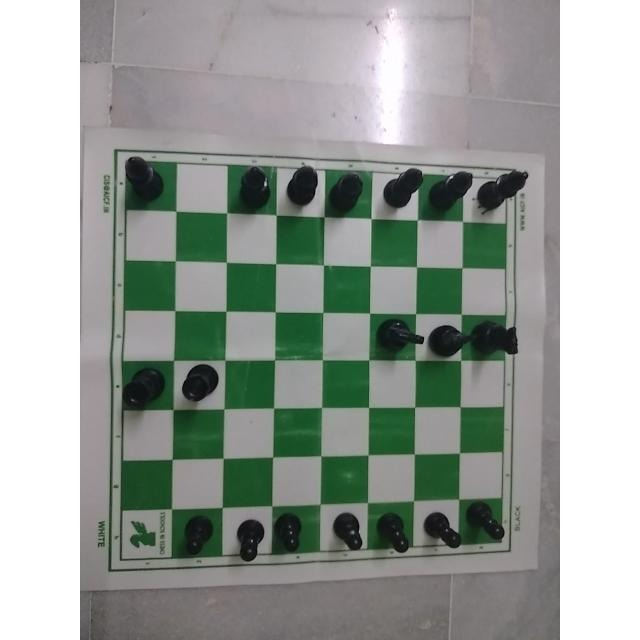black-bishop: (482, 162, 532, 219), (114, 147, 169, 198), (332, 158, 372, 222), (284, 152, 325, 212), (380, 157, 427, 209), (232, 162, 275, 208), (433, 168, 471, 212)
black-knight: (374, 310, 422, 357), (427, 319, 475, 363), (477, 318, 527, 353)
black-pawn: (374, 508, 417, 568), (470, 495, 508, 553), (173, 511, 213, 565), (229, 513, 271, 561), (426, 508, 464, 556), (333, 507, 369, 557), (271, 506, 306, 554)
black-rook: (118, 362, 164, 413), (180, 364, 228, 406)
